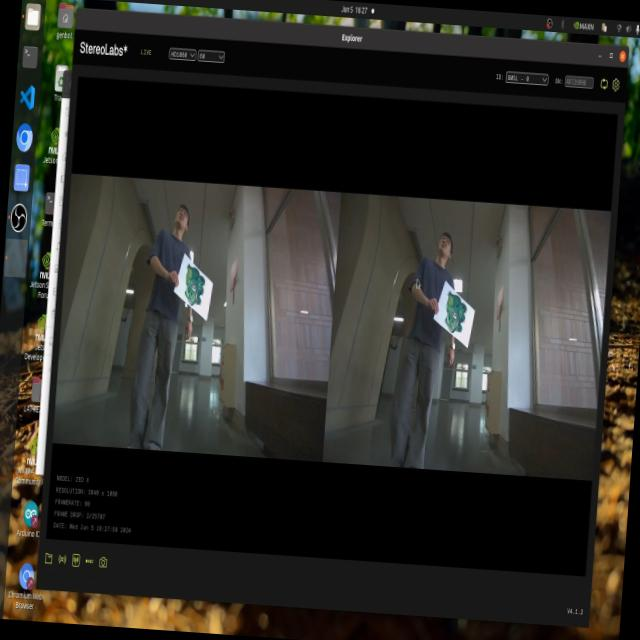green: (434, 292, 480, 346), (181, 268, 218, 321)
